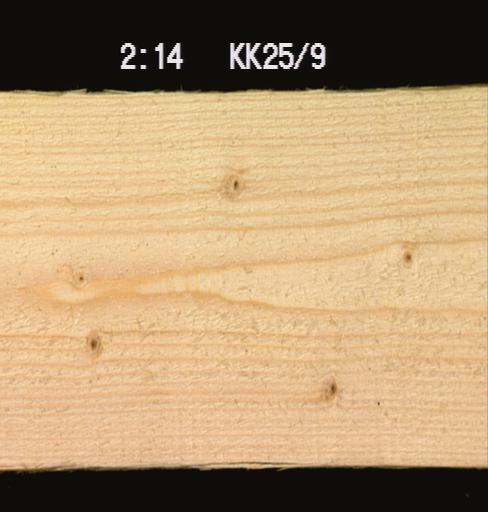small_knot: (314, 368, 341, 404), (220, 170, 244, 200), (81, 326, 105, 356), (69, 264, 91, 287), (397, 244, 416, 268)
